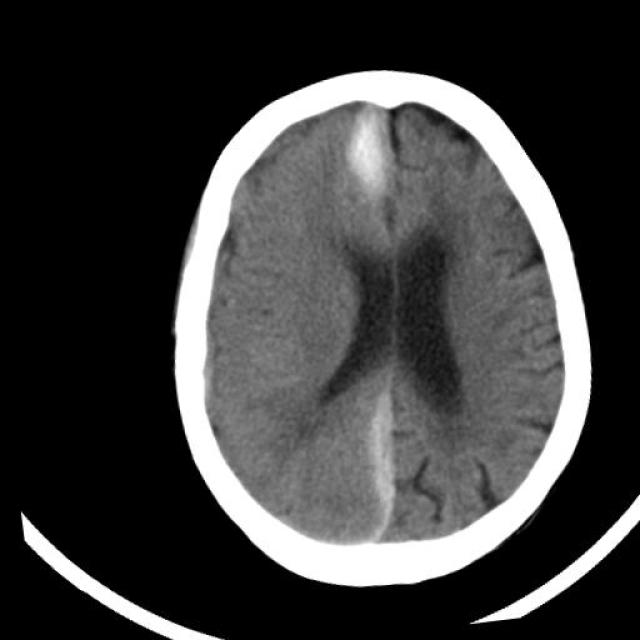Intraparenchymal: (330, 94, 419, 218)
Subdural: (324, 397, 430, 554)
